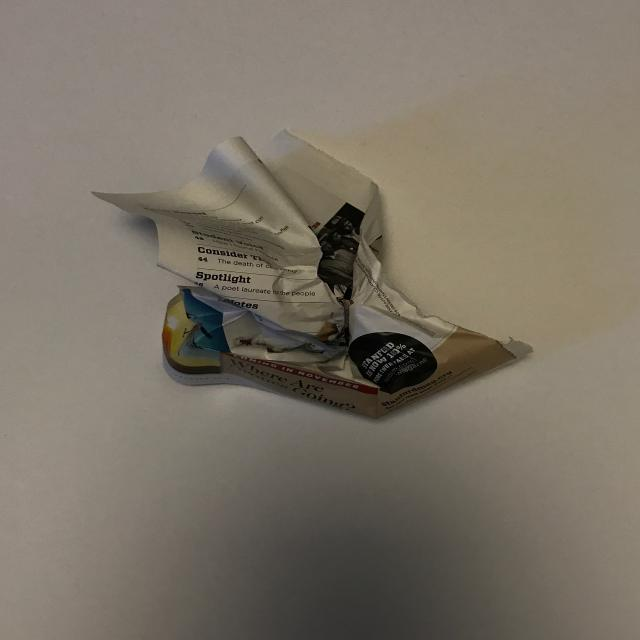paper: (82, 130, 534, 422)
